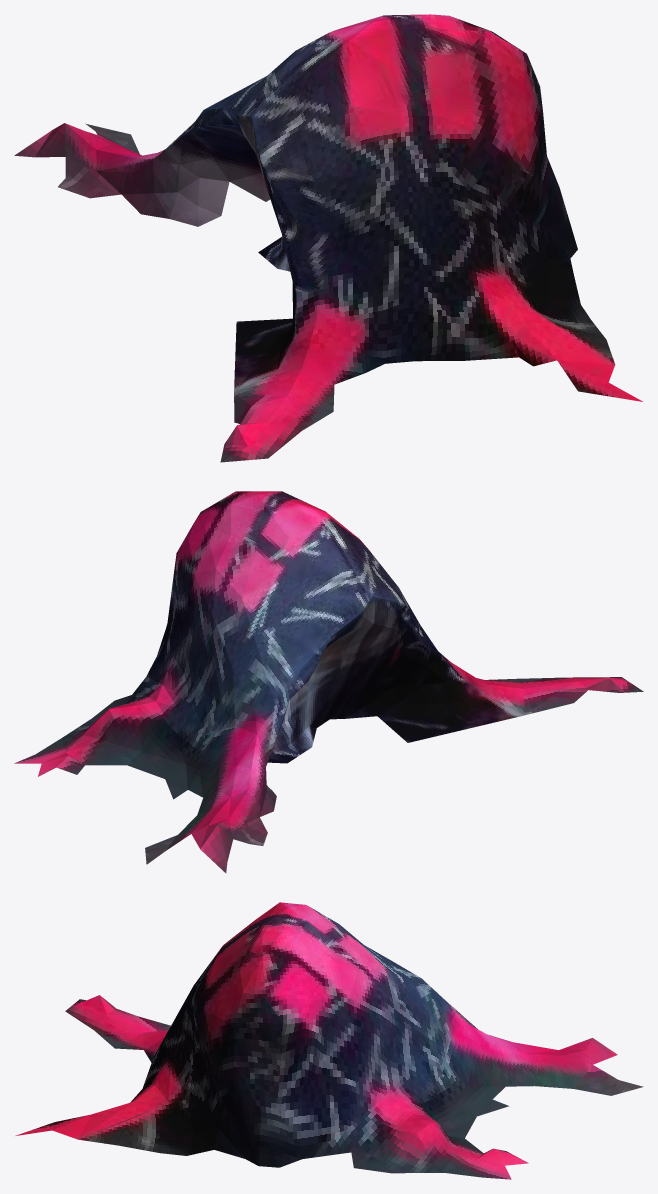
Rendered from 1024-livemask.glb.
The picture shows the model from 3 angles, top to bottom: view 1: azimuth 30°, elevation 25°; view 2: azimuth 150°, elevation 25°; view 3: azimuth 270°, elevation 25°; orthographic projection. The views are drawn at different scales.
Parts seen in each view (by area): view 1: Mesh_0; view 2: Mesh_0; view 3: Mesh_0.
Part boxes in pixels (x1,y1,x2,y2): Mesh_0: (14,14,642,462); Mesh_0: (14,491,643,873); Mesh_0: (15,902,643,1179).
Size of the model in its own units: 0.1833 by 0.0936 by 0.2695.
1 material, 1 textured.
